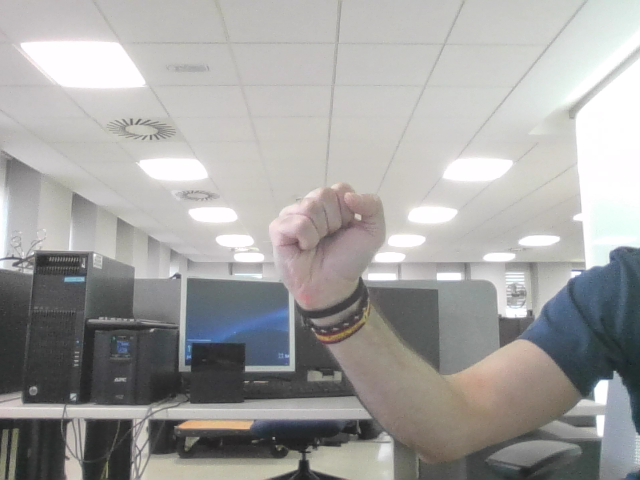Puño: (283, 190, 369, 264)
